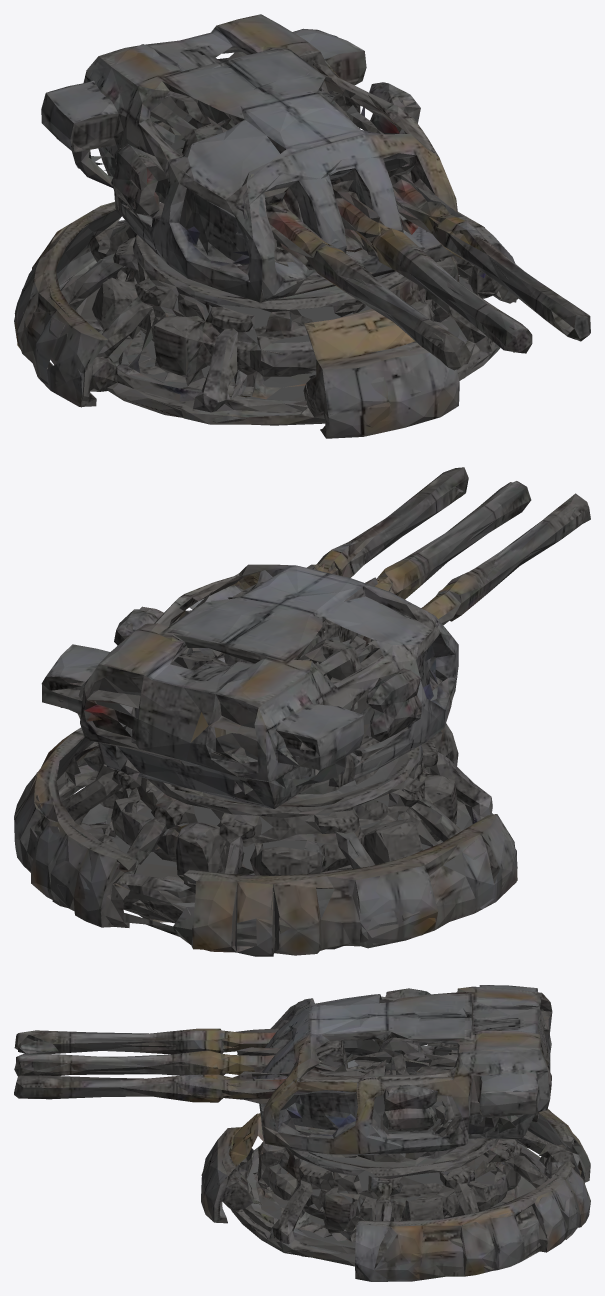
File: 01_液壓三聯裝主砲塔.glb
The picture shows the model from 3 angles, top to bottom: view 1: azimuth 30°, elevation 25°; view 2: azimuth 150°, elevation 25°; view 3: azimuth 270°, elevation 25°; orthographic projection. The views are drawn at different scales.
Visible parts, largest first — view 1: part_1; view 2: part_1; view 3: part_1.
Part boxes in pixels (x1,y1,x2,y2): part_1: (14, 14, 590, 438); part_1: (14, 467, 590, 956); part_1: (14, 985, 590, 1281).
Size of the model in its own units: 0.6819 by 0.3581 by 0.9914.
1 material, 1 textured.
